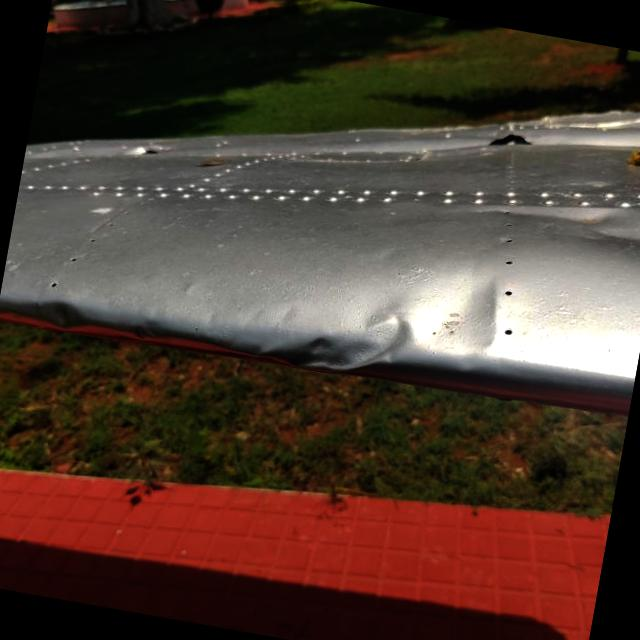dent: (244, 272, 421, 408), (458, 169, 640, 272), (28, 282, 99, 351)
